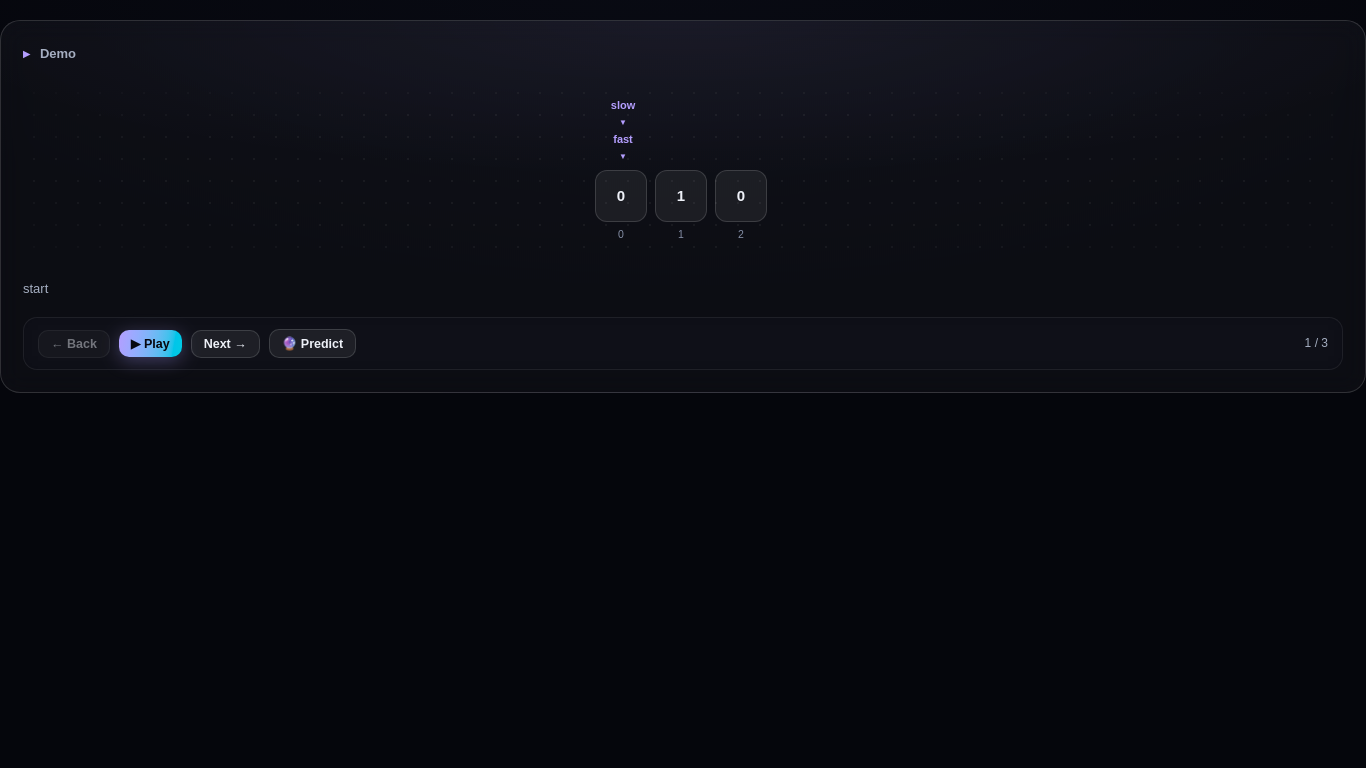
Test case: (6) a question can be answered only once › disables every option after the first pick
What coordinates should you click on to do the following:
click the button "🔮 Predict"
I would click on:
 (313, 344)
Its box is [269, 329, 356, 358].
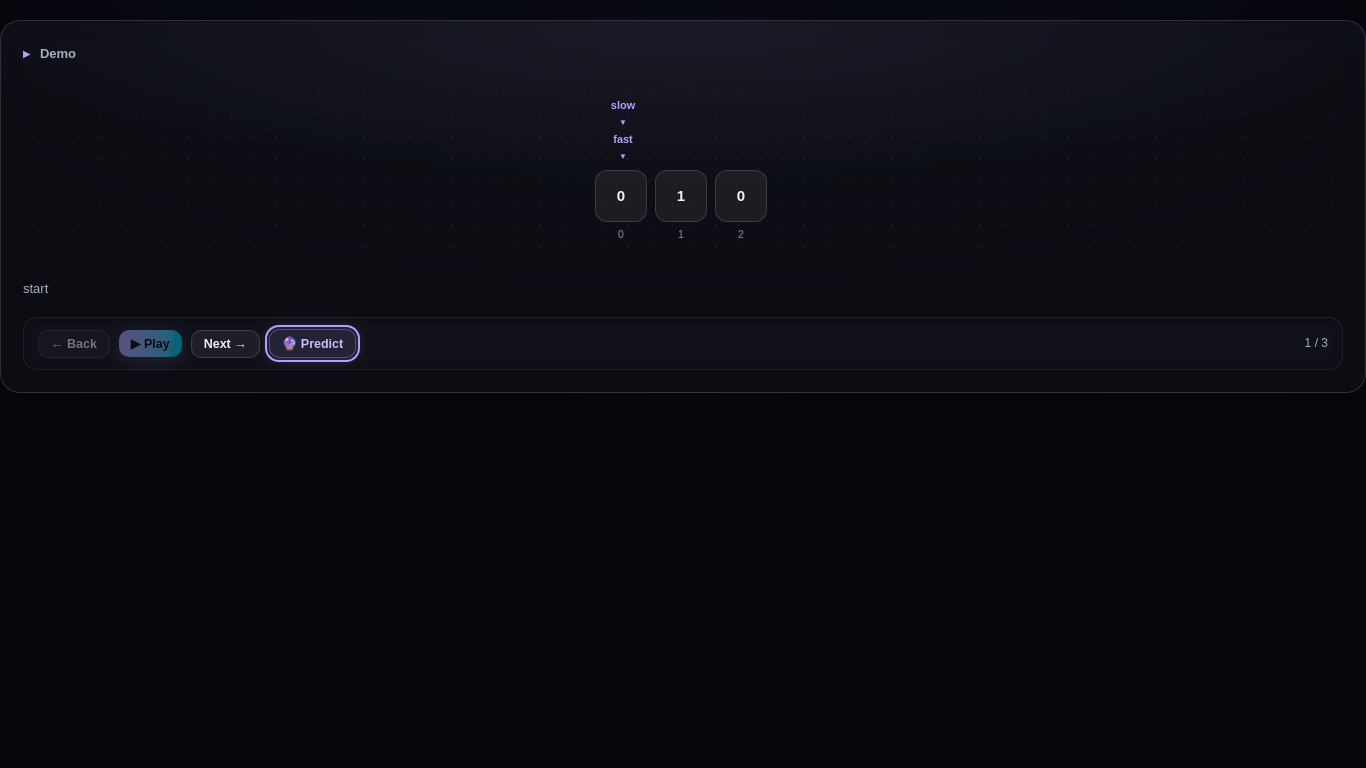
What coordinates should you click on to do the following:
click the button "Next →"
I would click on:
 (225, 344)
Its box is [191, 330, 260, 358].
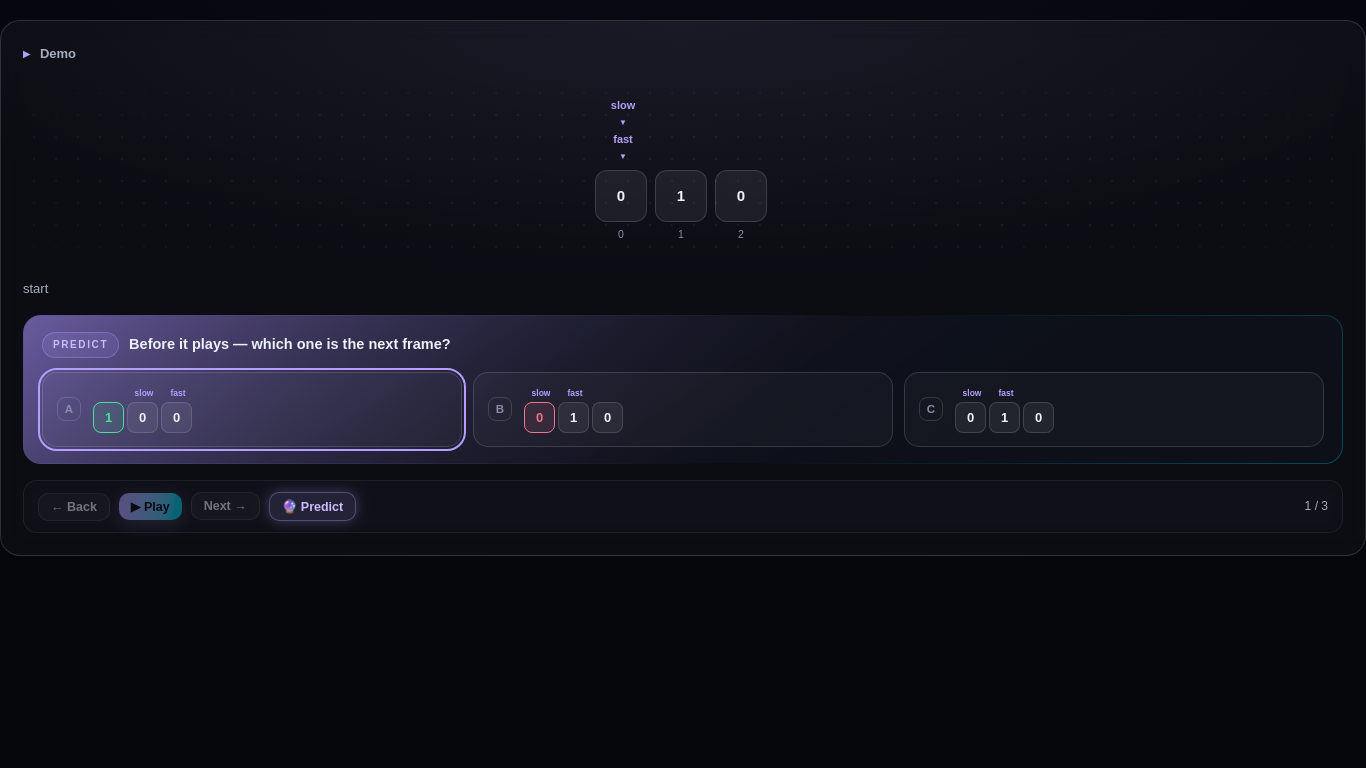
What coordinates should you click on to do the following:
click the button "B slow fast 0 1 0"
I would click on:
 (540, 417)
Its box is [473, 372, 893, 446].
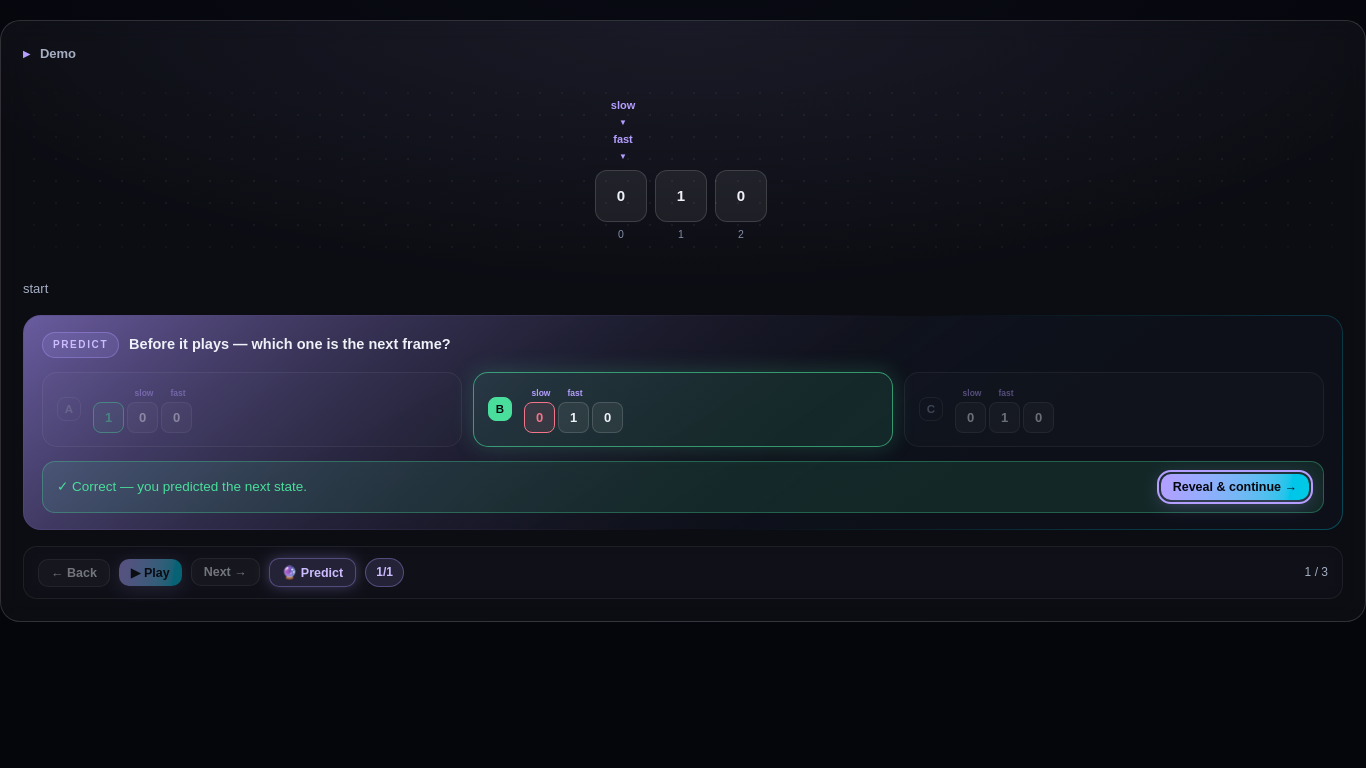
Check: the button "A slow fast 1 0 0" is disabled, box [42, 372, 462, 446]
Check: the button "B slow fast 0 1 0" is disabled, box [473, 372, 893, 446]
Check: the button "C slow fast 0 1 0" is disabled, box [904, 372, 1324, 446]
